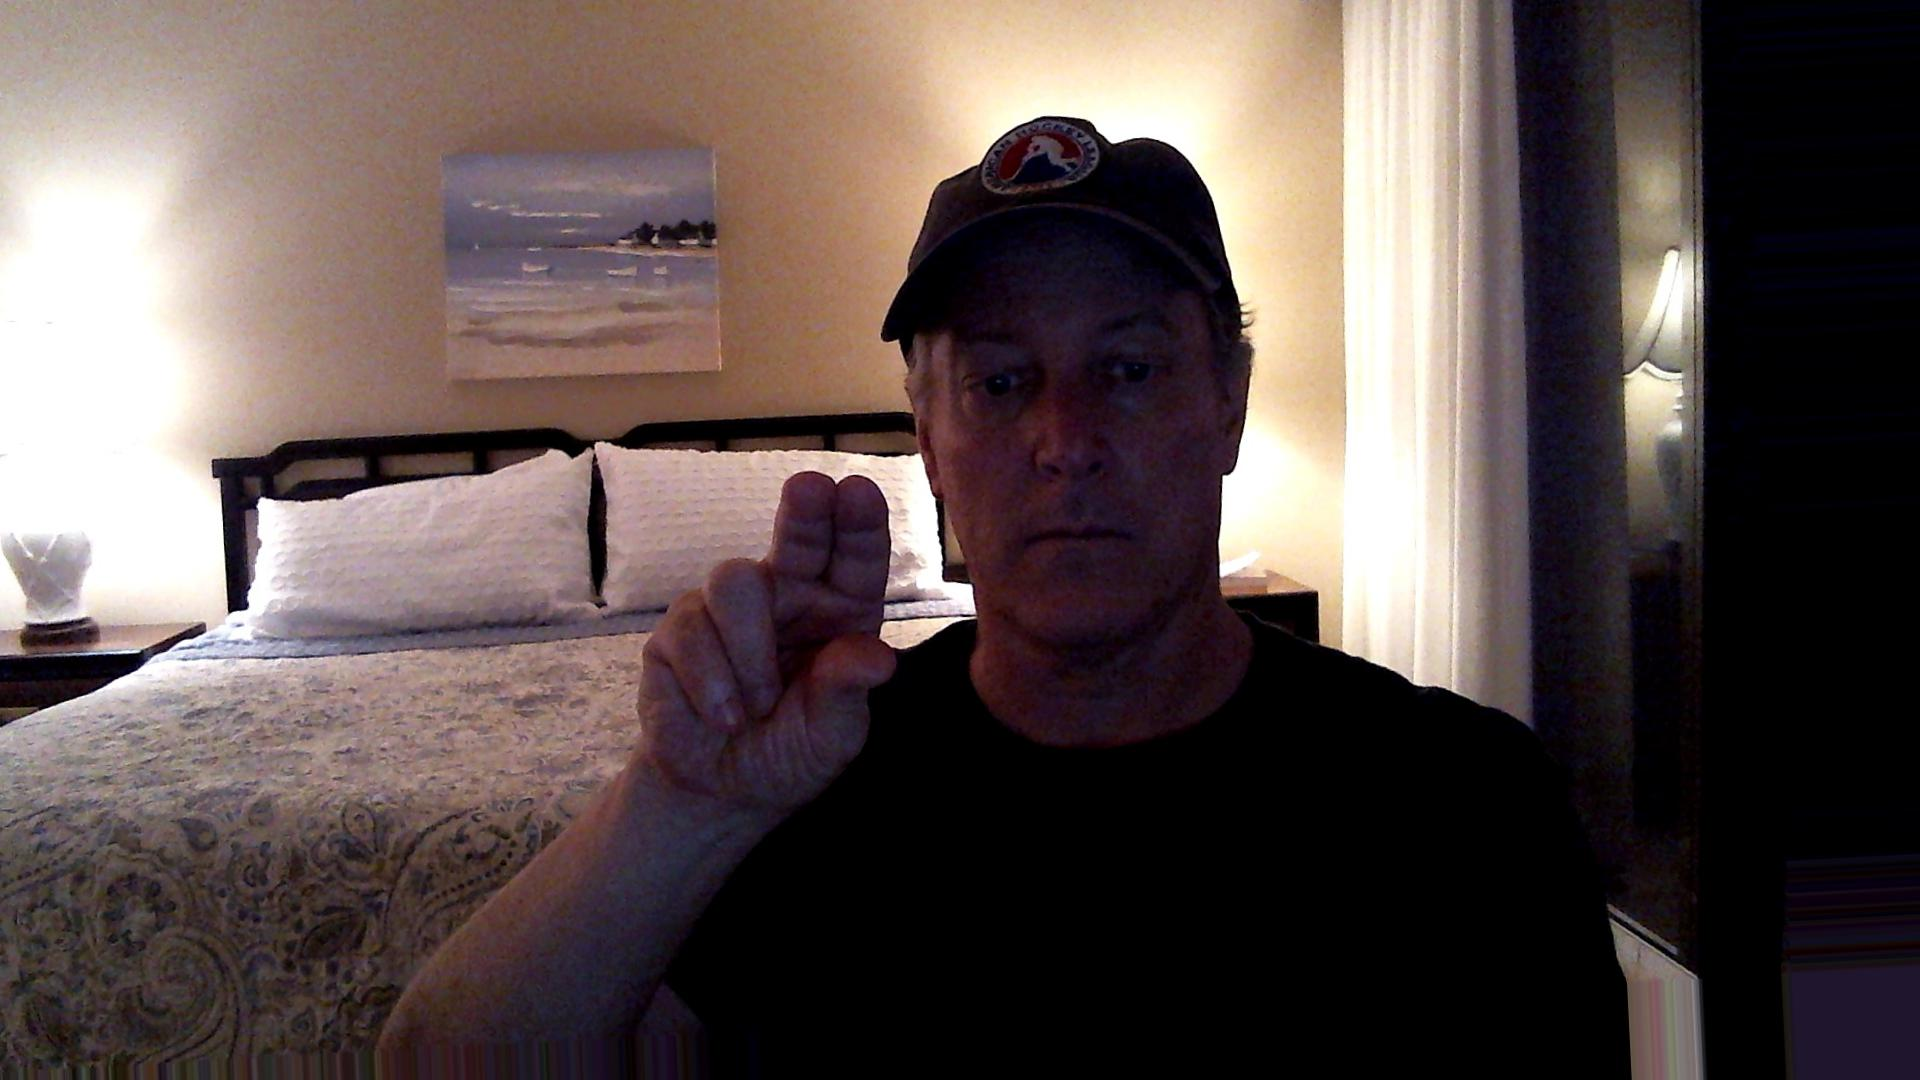No: (617, 450, 935, 828)
